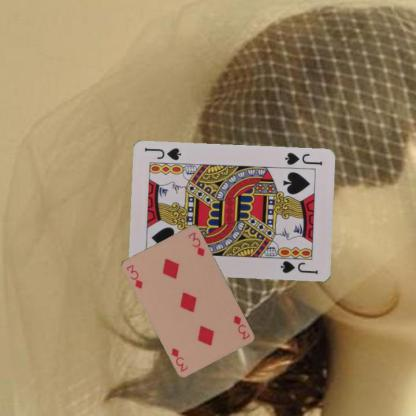3d: (124, 262, 145, 290), (231, 312, 251, 341)
Js: (282, 150, 324, 167)
